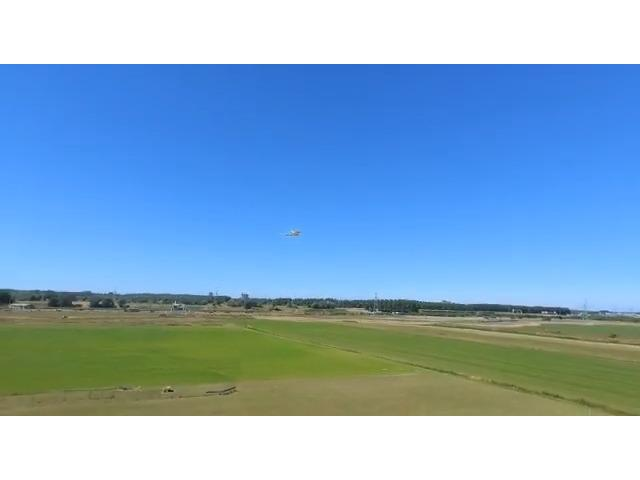Anti-Drone: (262, 224, 326, 248)
